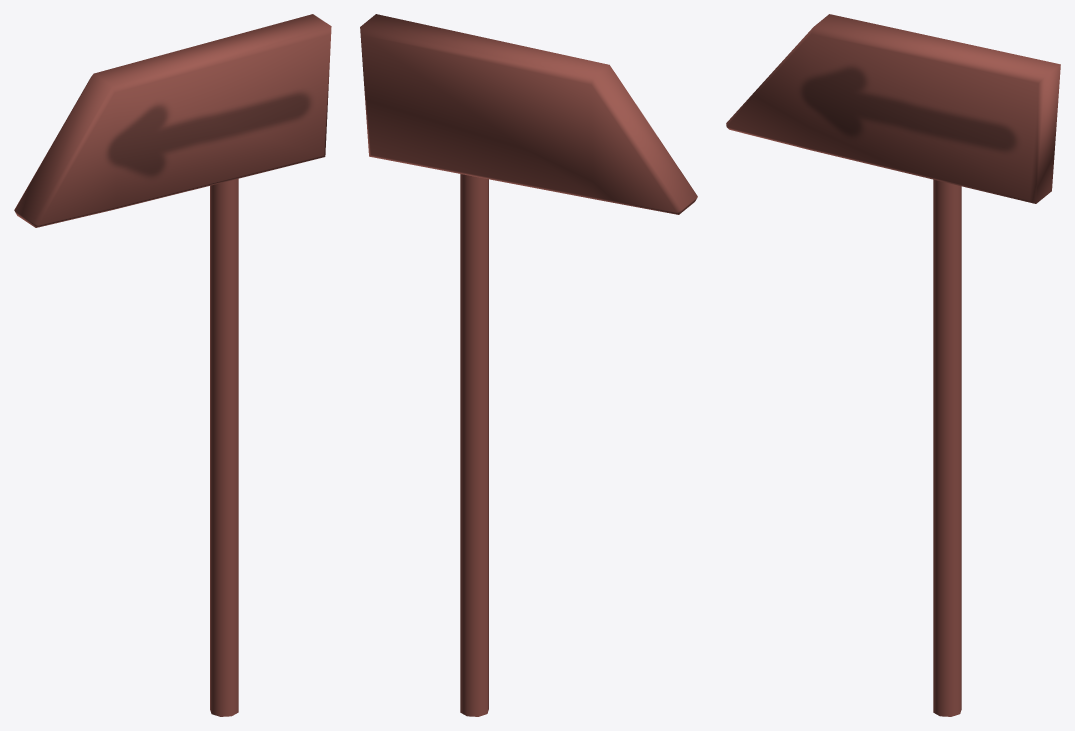
Rendered from PathSignForwardLSide.fbx.
The picture shows the model from 3 angles, left to right: view 1: azimuth 30°, elevation 25°; view 2: azimuth 150°, elevation 25°; view 3: azimuth 330°, elevation 25°; orthographic projection.
Parts seen in each view (by area): view 1: PathSignForwardLSide_LOD0; view 2: PathSignForwardLSide_LOD0; view 3: PathSignForwardLSide_LOD0.
Boxes of the visible parts, x1=… form: PathSignForwardLSide_LOD0: x1=14, y1=14, x2=331, y2=716; PathSignForwardLSide_LOD0: x1=360, y1=14, x2=697, y2=716; PathSignForwardLSide_LOD0: x1=726, y1=14, x2=1060, y2=716.
Size of what is drawn, in the model's own units: 0.9343 by 1.91 by 0.1691.
Materials: 1 (1 with a texture image).
